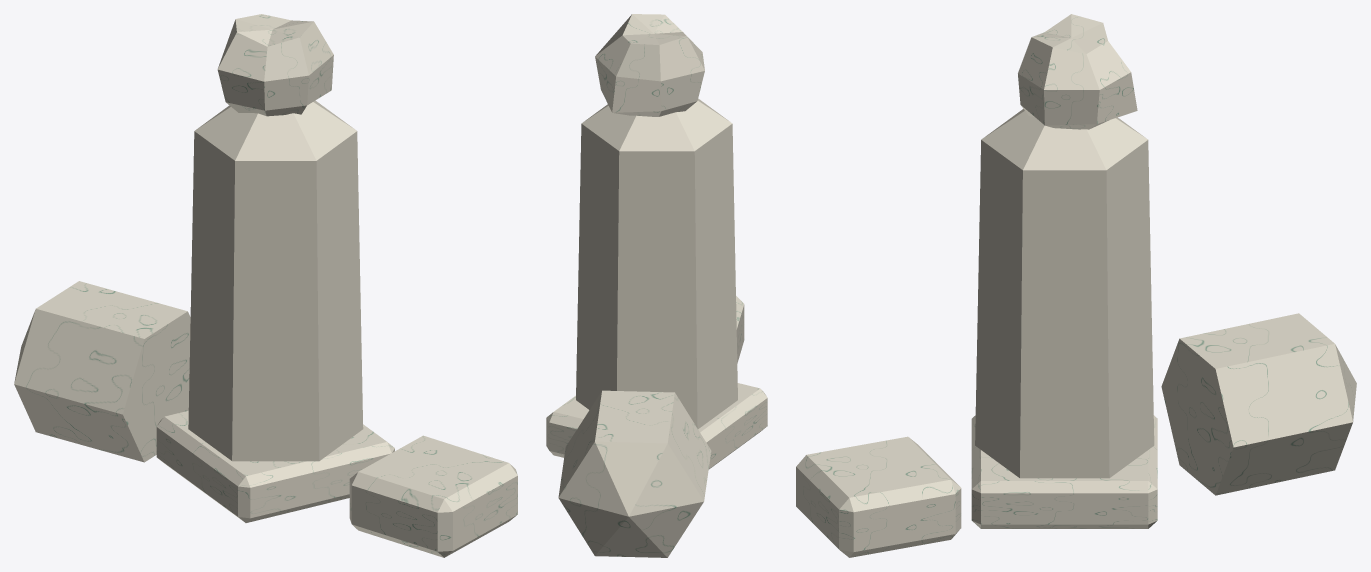
Rendered from BrokenPillar.glb.
3 renders of one model, left to right at view 1: azimuth 30°, elevation 25°; view 2: azimuth 150°, elevation 25°; view 3: azimuth 270°, elevation 25°, orthographic. The views are drawn at different scales.
Visible parts, largest first — view 1: BrokenPillar; view 2: BrokenPillar; view 3: BrokenPillar.
Part boxes in pixels (box(x1,y1,x2,y2)): BrokenPillar: box(14, 14, 517, 557); BrokenPillar: box(546, 14, 767, 557); BrokenPillar: box(796, 14, 1356, 557).
Size of the model in its own units: 2.62 by 3.92 by 4.22.
Materials: 1 (1 with a texture image).
